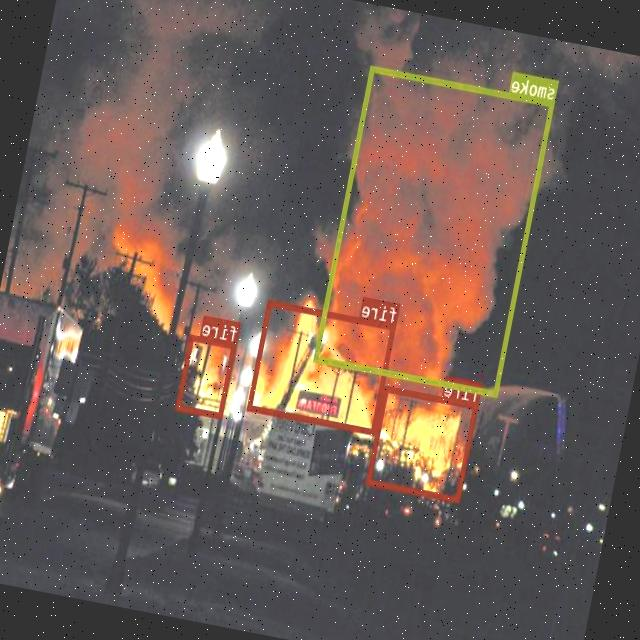fire: (248, 300, 397, 436), (366, 385, 481, 502), (177, 334, 238, 418)
smoke: (314, 65, 556, 396)
